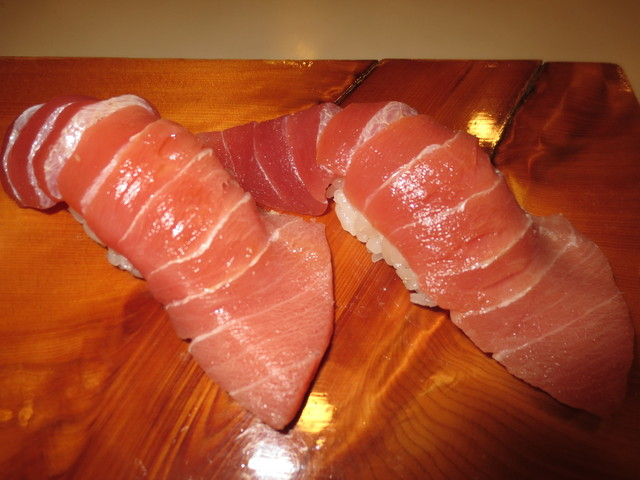medium_fatty_tuna: (203, 108, 636, 416), (4, 101, 329, 432)
